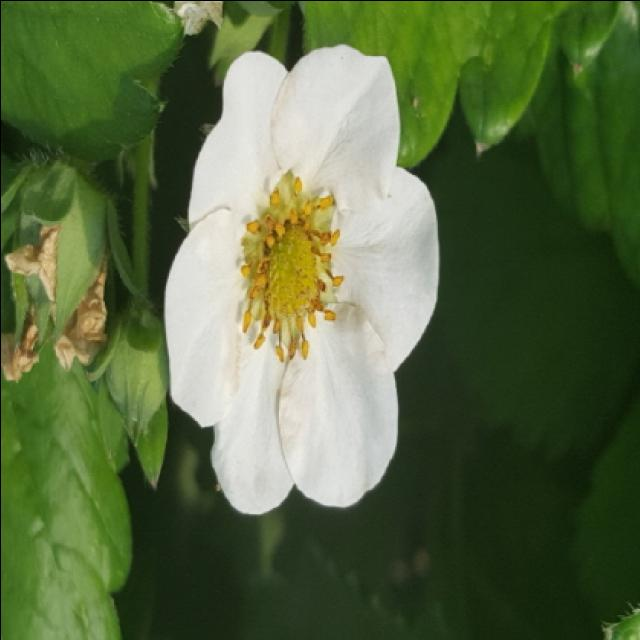Blossom Blight: (234, 171, 348, 367)
